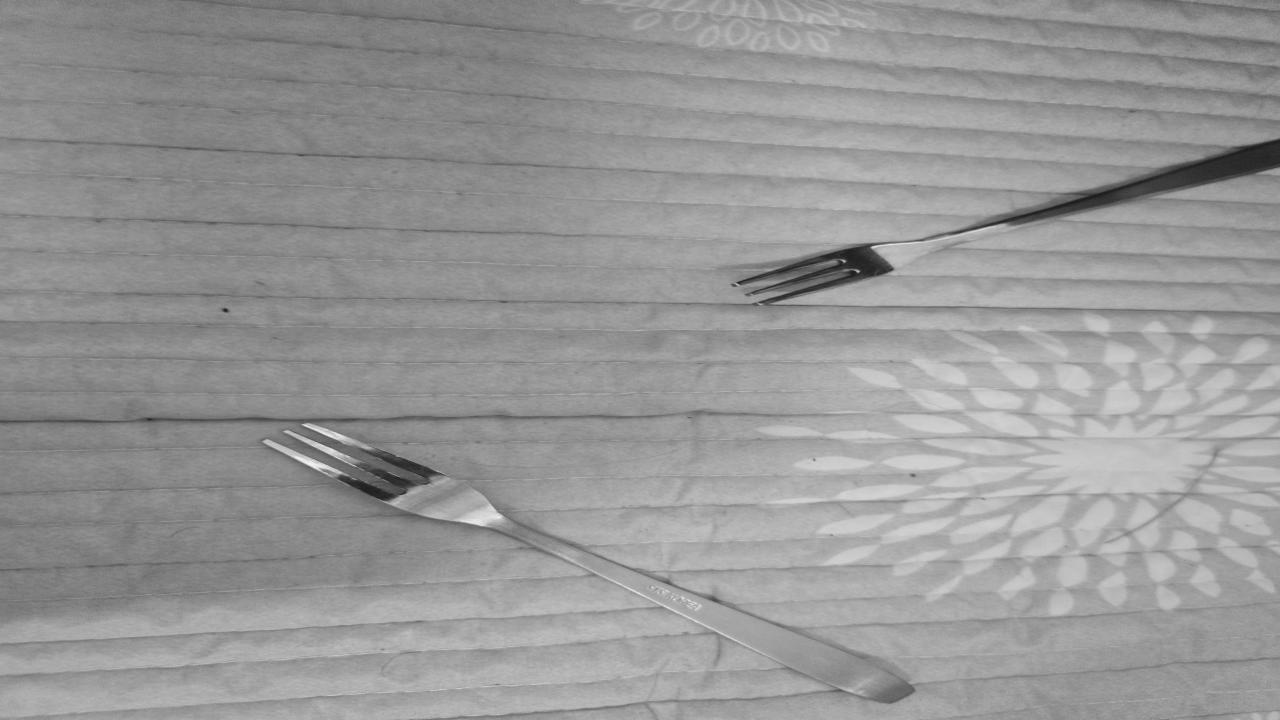fork: (282, 416, 882, 702), (729, 122, 1258, 308)
